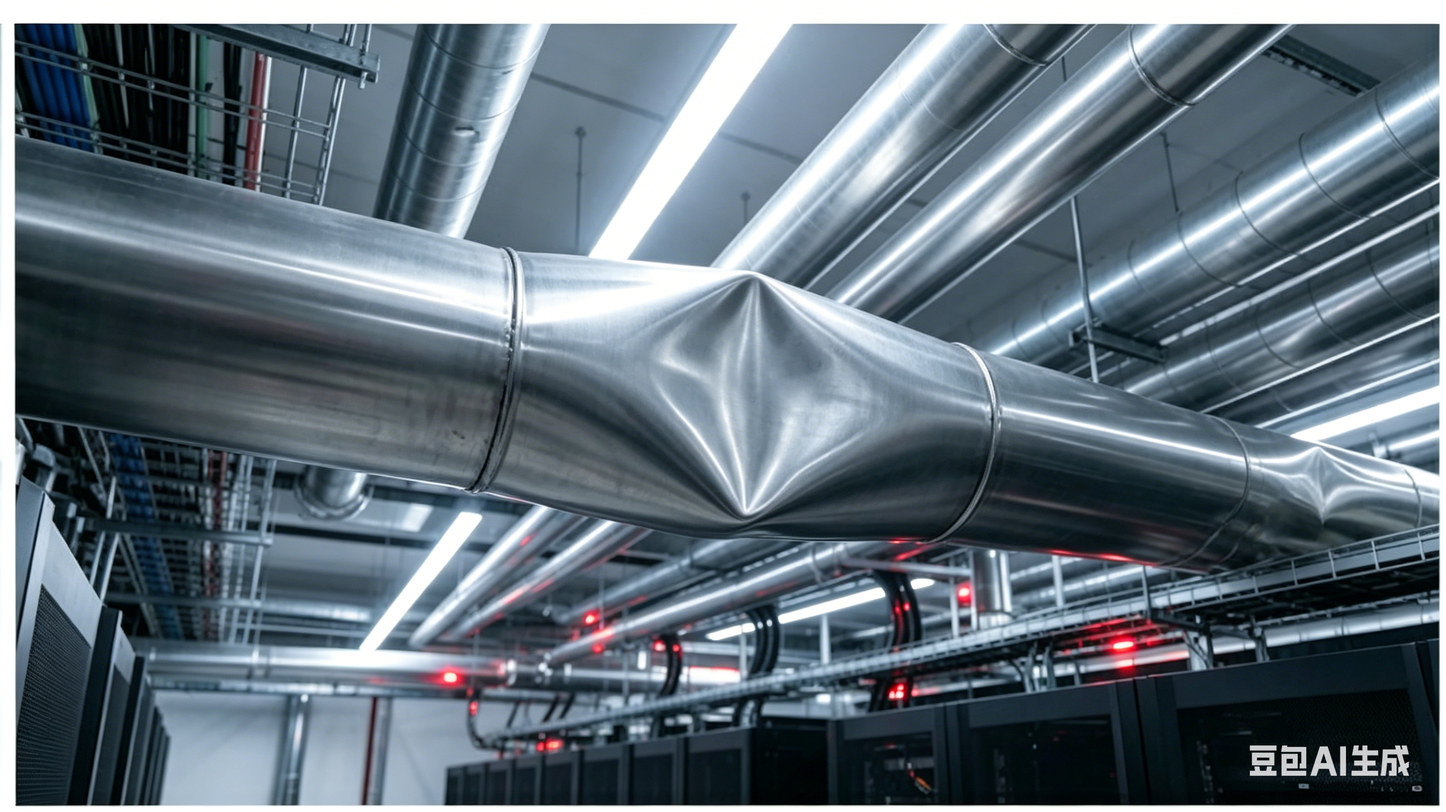Leakage: (579, 255, 922, 549), (1256, 433, 1391, 548)
